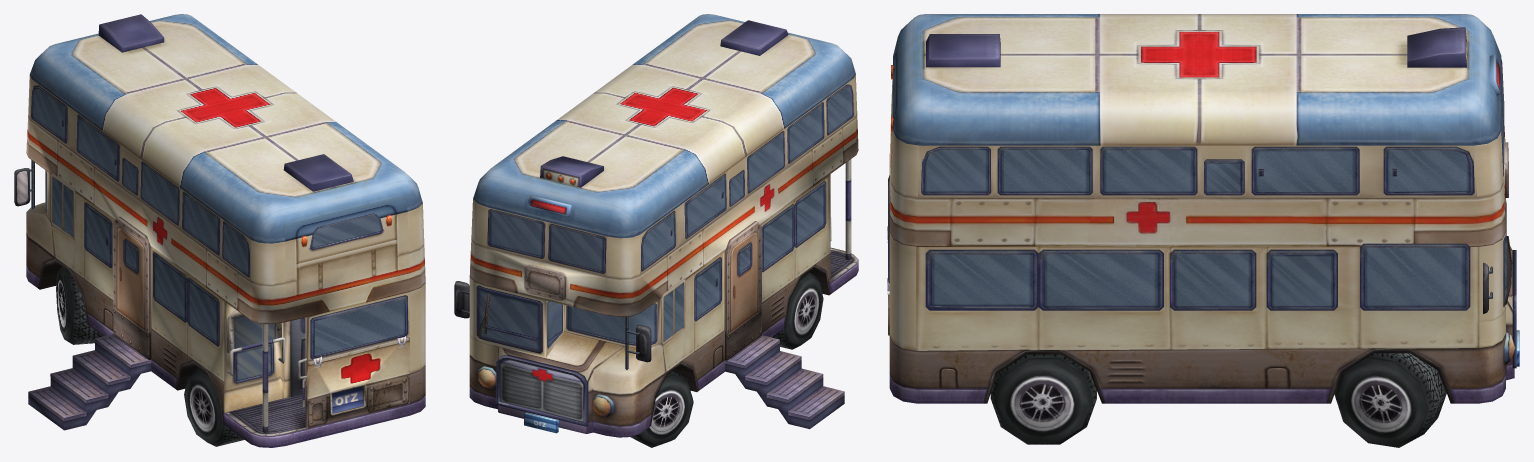
Rendered from a_SEbbus01.glb.
3 renders of one model, left to right at view 1: azimuth 30°, elevation 25°; view 2: azimuth 150°, elevation 25°; view 3: azimuth 270°, elevation 25°, orthographic. The views are drawn at different scales.
Parts seen in each view (by area): view 1: a_SEbbus01; view 2: a_SEbbus01; view 3: a_SEbbus01.
Boxes of the visible parts, x1,y1,x2,y2 form: a_SEbbus01: [14, 14, 425, 447]; a_SEbbus01: [454, 14, 858, 447]; a_SEbbus01: [887, 14, 1519, 447].
Bounding box in the file's own units: 4.05 × 3.97 × 6.36.
Materials: 3 (3 with a texture image).
